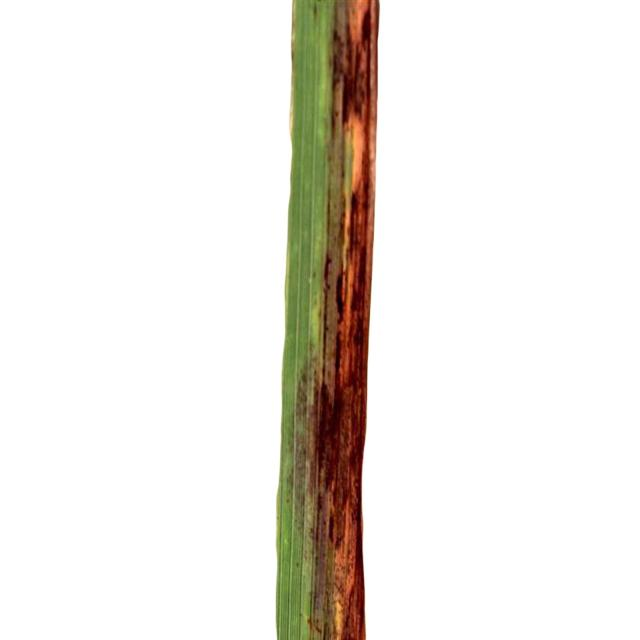Leaf scald: (260, 0, 504, 640)
